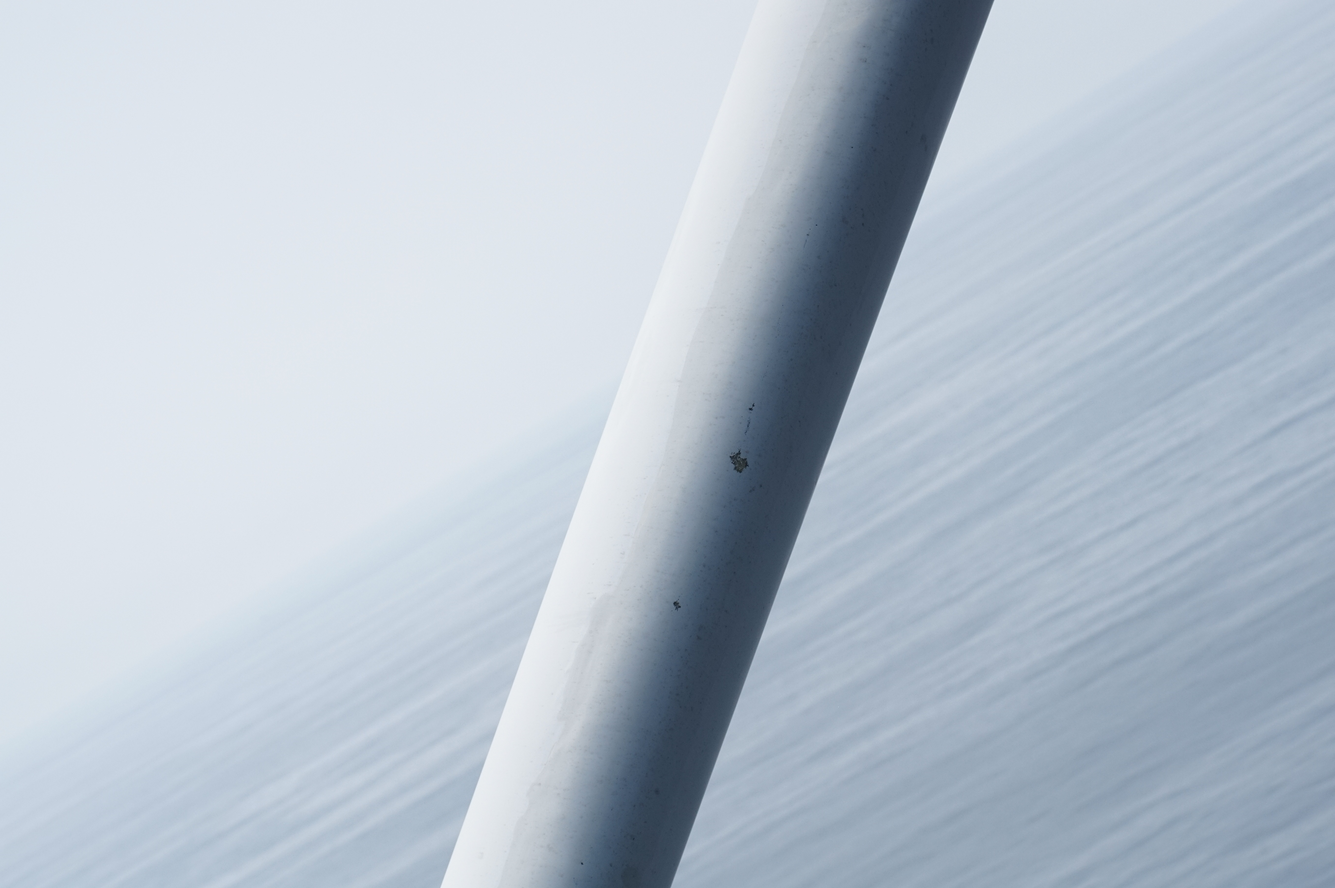Dirt: (728, 450, 749, 475)
